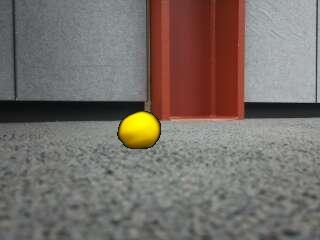lemon: (119, 113, 160, 149)
